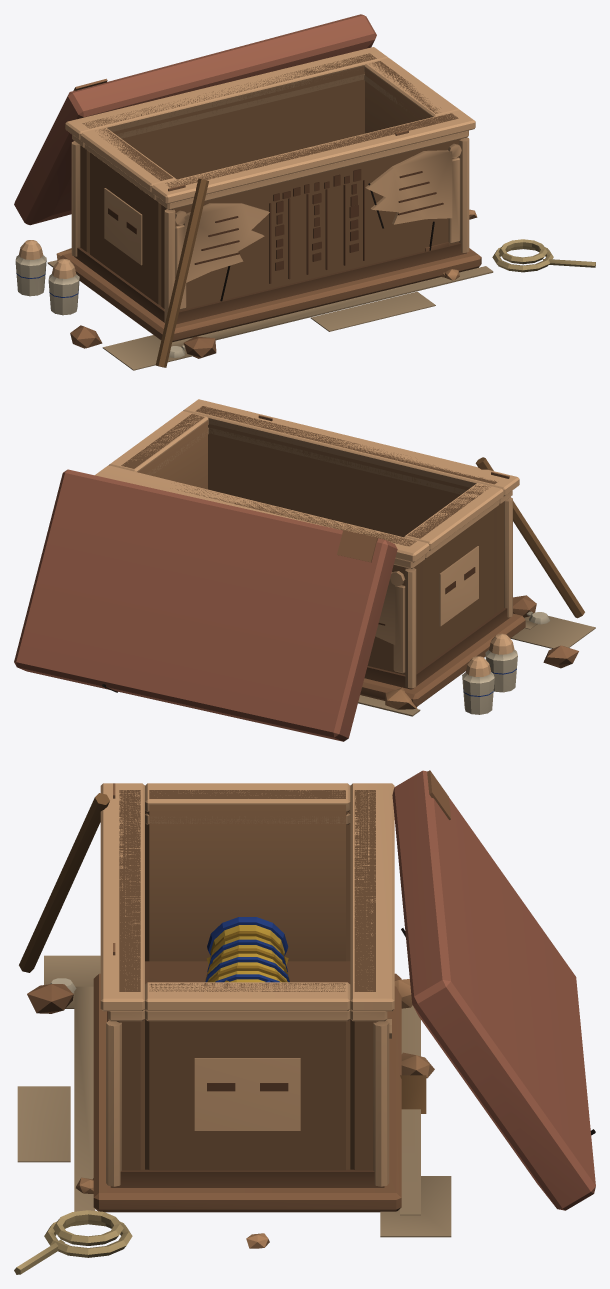
The model's file is sarcophagus.glb.
3 views of the same model, one above another, from view 1: azimuth 30°, elevation 25°; view 2: azimuth 150°, elevation 25°; view 3: azimuth 270°, elevation 25° (orthographic). The views are drawn at different scales.
Parts seen in each view (by area): view 1: sarcophagus; view 2: sarcophagus; view 3: sarcophagus.
Boxes of the visible parts, x1,y1,x2,y2 form: sarcophagus: [14, 14, 595, 370]; sarcophagus: [14, 399, 595, 741]; sarcophagus: [14, 770, 595, 1274].
Size of the model in its own units: 4.45 by 1.56 by 3.29.
